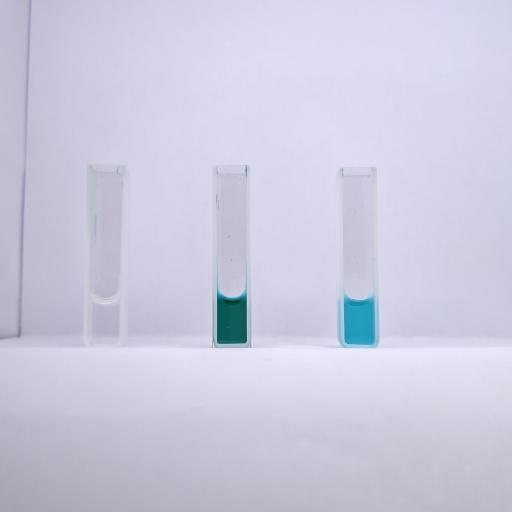cuvette: (210, 163, 254, 351), (338, 165, 381, 351), (84, 160, 126, 350)
liquid: (344, 296, 376, 344), (217, 295, 247, 344), (90, 297, 118, 342)
